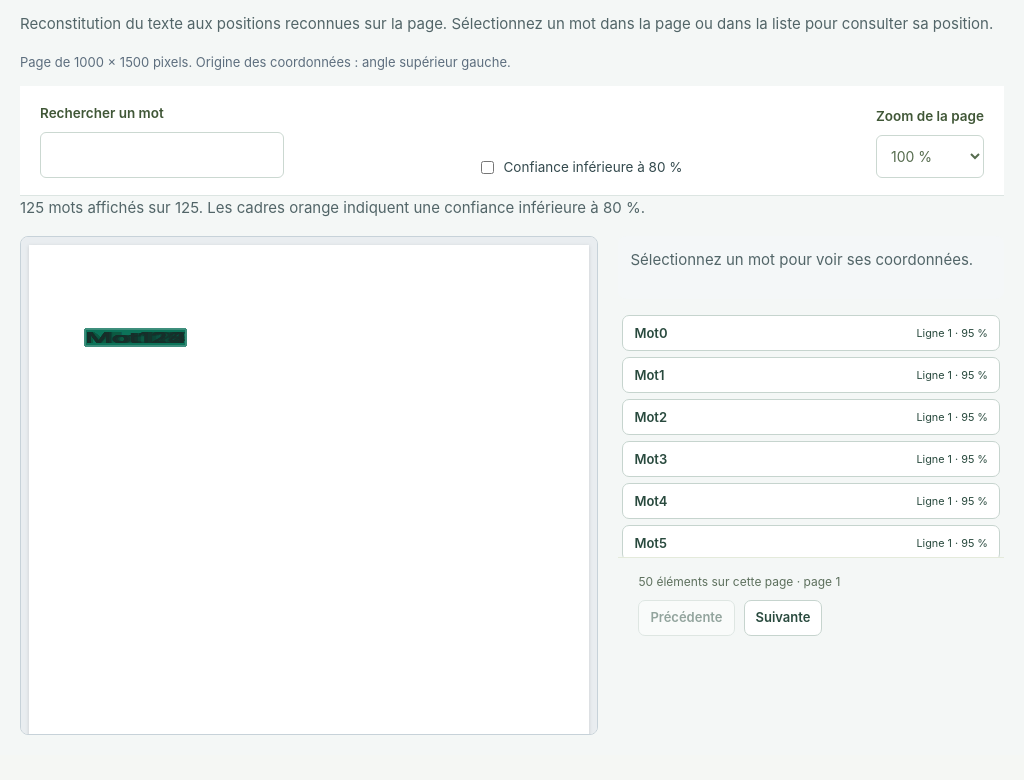
pagine les grandes listes de mots et revient à la première page après filtrage
This screenshot has width=1024, height=780.
Step 1. Click the button "Suivante" → [783, 618], box [744,600,822,636]
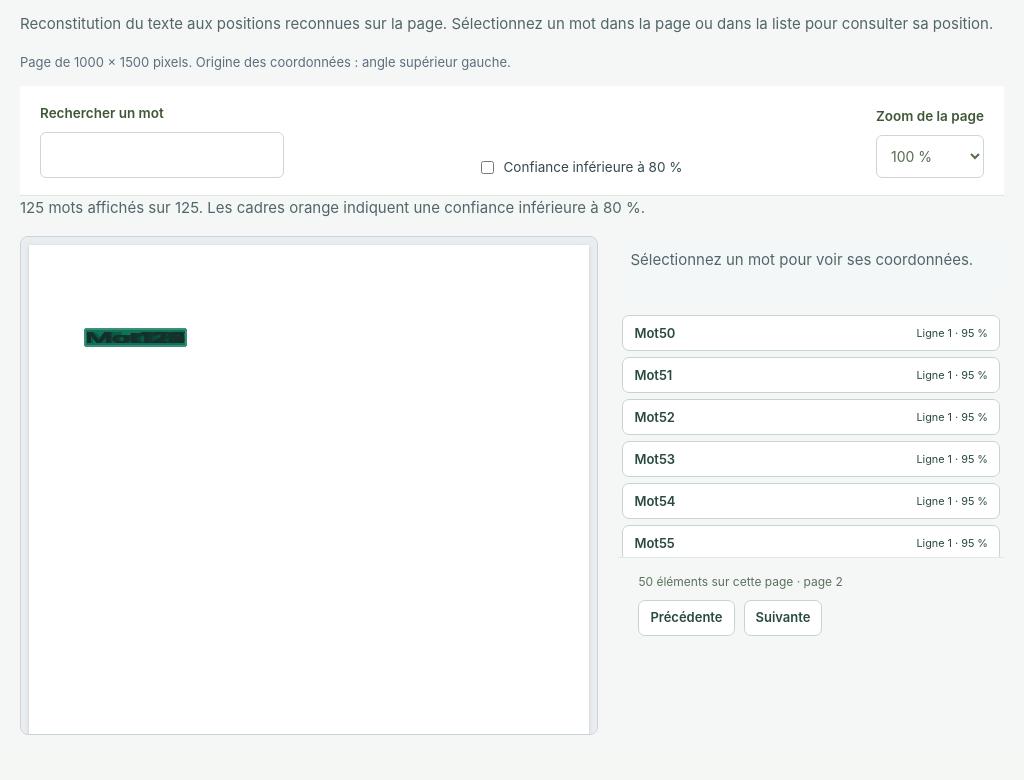
Now the text "Mot50" is shown, box [634,325,675,342]
Step 2. Type "Mot124" into the field labelled "Rechercher un mot" → [162, 155], box [40,132,284,178]
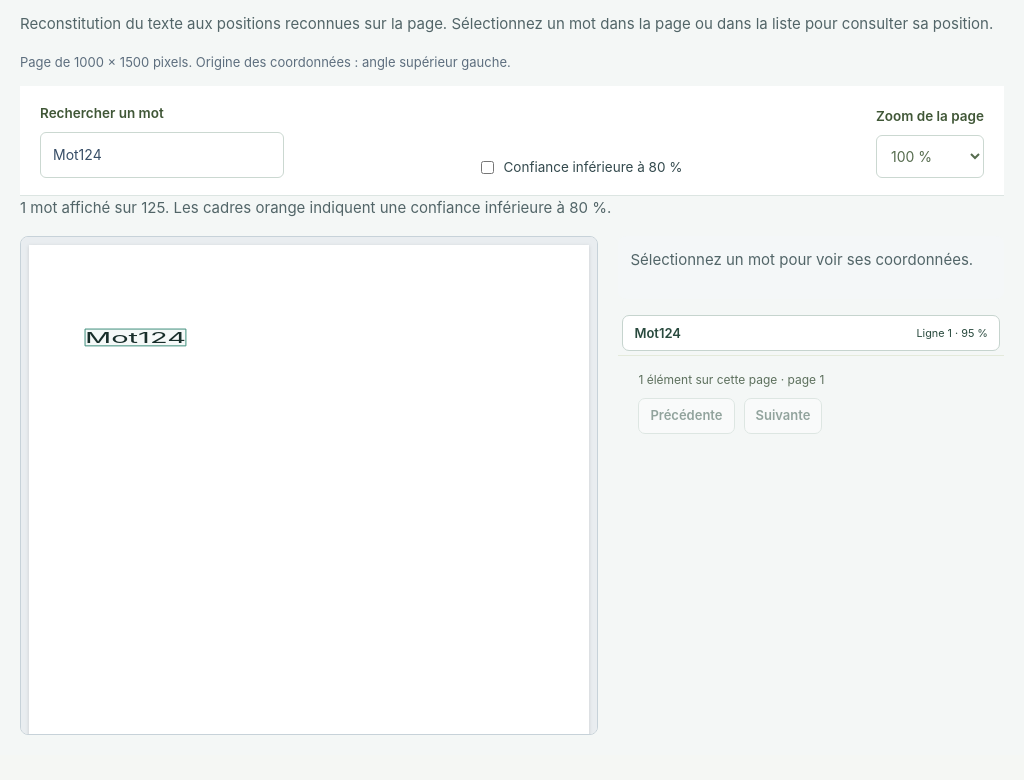
Now the button "Précédente" is disabled, box [638,398,734,434]
